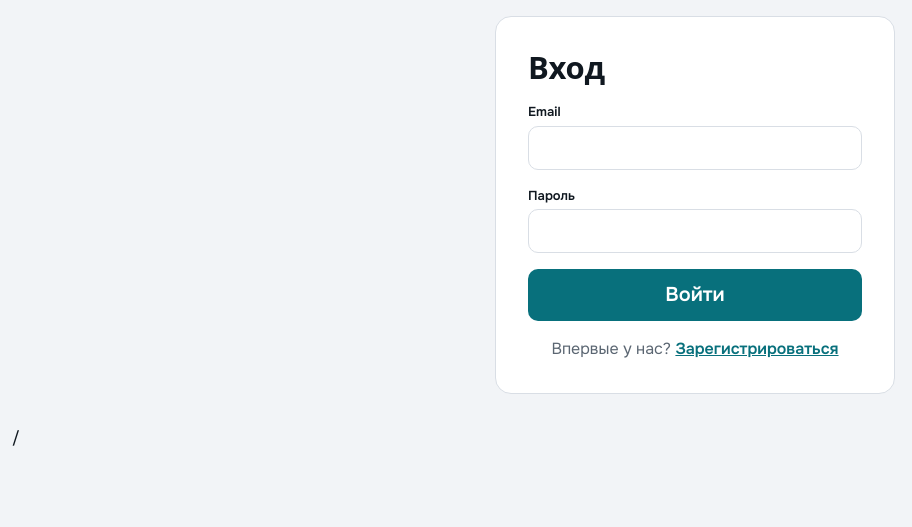
ошибка сервера показывается над формой
The width and height of the screenshot is (912, 527).
Type "aibol@mail.kz" into the field labelled "Email" at x=695, y=148, box [528,126,862,170]
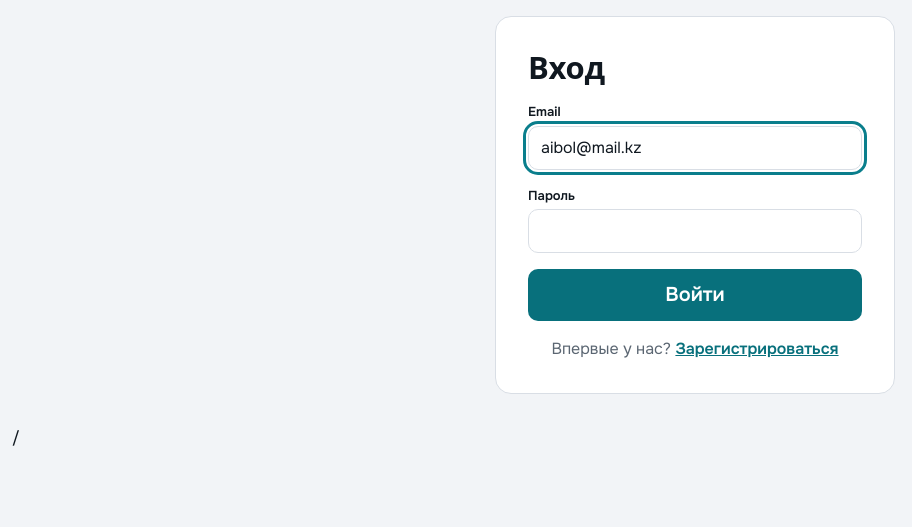
Type "wrong-password" into the password field labelled "Пароль" at x=695, y=231, box [528,209,862,253]
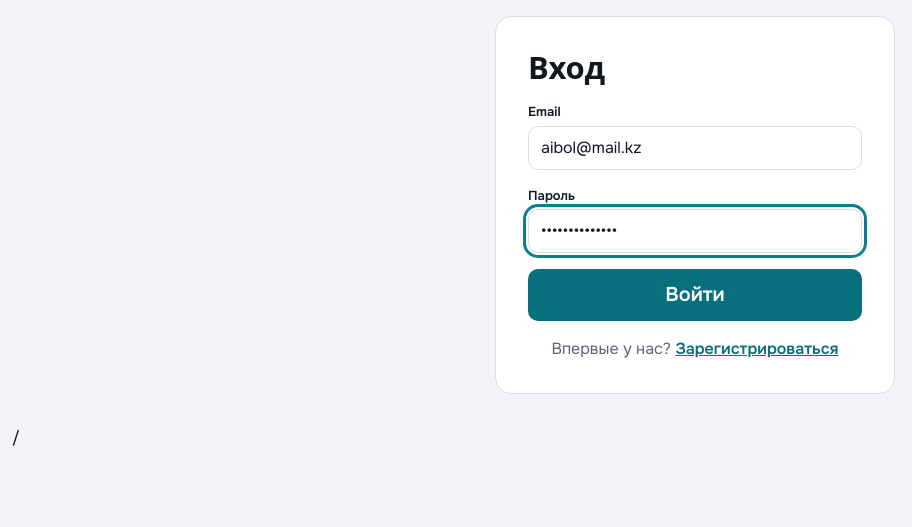
Click the button "Войти" at x=695, y=295, box [528,269,862,321]
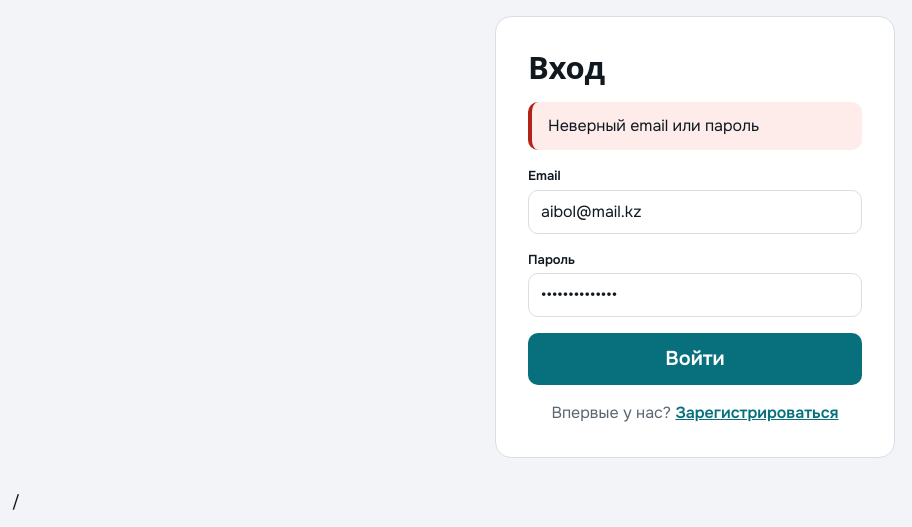
Expected: the message reads "Неверный email или пароль", [548,115,759,136]
